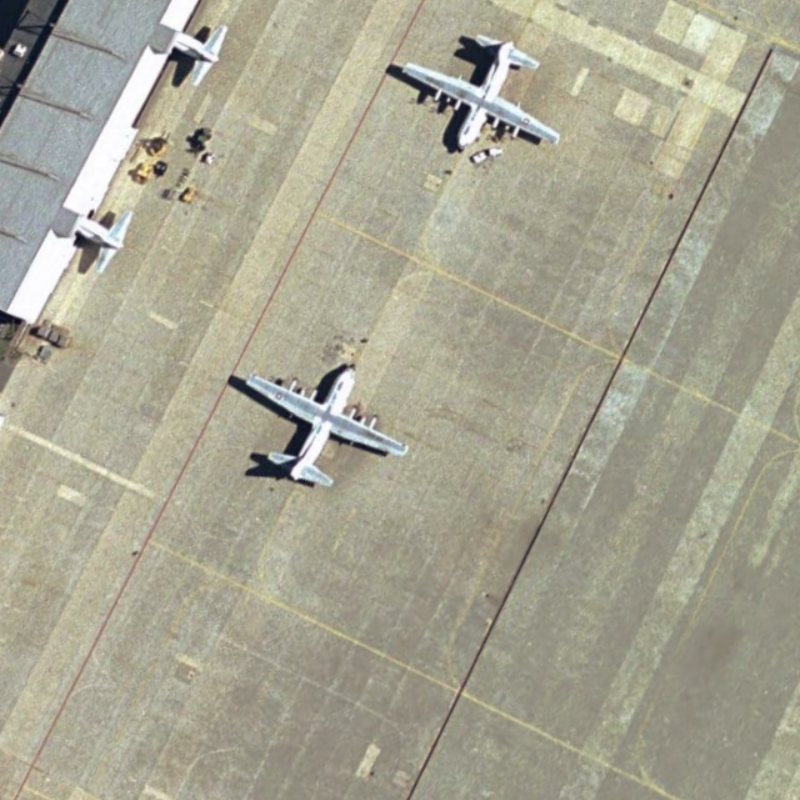A2: (239, 358, 415, 496), (393, 31, 561, 155)
